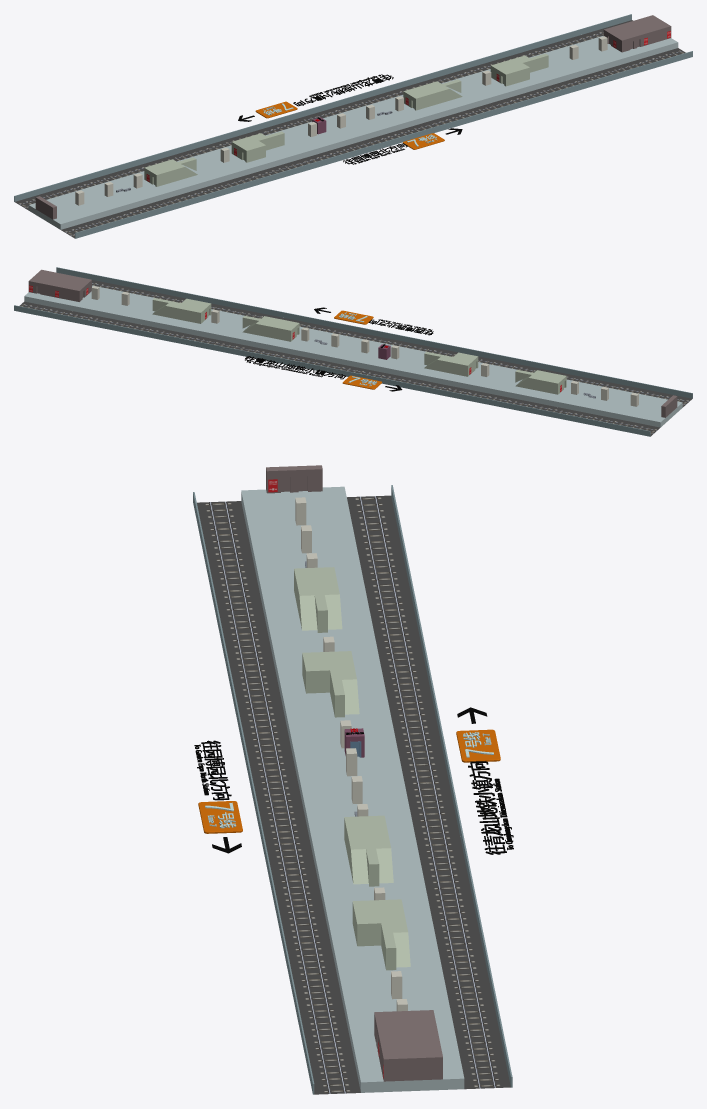
The model's file is psop-whgj-wjdd-b3.d5f8145.glb.
3 views of the same model, one above another, from view 1: azimuth 30°, elevation 25°; view 2: azimuth 150°, elevation 25°; view 3: azimuth 270°, elevation 25° (orthographic). The views are drawn at different scales.
Parts seen in each view (by area): view 1: Box001, 轨道03, 7号线园博园方向, Object061, B3_房间, 墩柱083, Text018, Text017; view 2: Box001, 7号线园博园方向, 轨道03, Object061, B3_房间, 墩柱083, Text018, Text017, Plane101, Plane073; view 3: 轨道03, Box001, Object061, B3_房间, 7号线园博园方向, 墩柱083, Text018, Text017, Plane073, Plane101.
Boxes of the visible parts, x1,y1,x2,y2 form: Box001: (28, 35, 678, 229); 轨道03: (15, 20, 685, 238); 7号线园博园方向: (14, 14, 692, 238); Object061: (144, 53, 548, 186); B3_房间: (35, 15, 671, 219); 墩柱083: (75, 36, 607, 205); Text018: (293, 74, 393, 106); Text017: (343, 143, 407, 164); Box001: (24, 285, 682, 427); 7号线园博园方向: (14, 267, 692, 436); 轨道03: (19, 280, 692, 436); Object061: (152, 298, 566, 394); B3_房间: (28, 269, 677, 417); 墩柱083: (91, 286, 638, 406); Text018: (245, 356, 346, 379); Text017: (368, 319, 433, 335); Plane101: (342, 375, 382, 389); Plane073: (334, 310, 373, 324); 轨道03: (197, 495, 510, 1094); Box001: (241, 486, 464, 1092); Object061: (294, 567, 410, 970); B3_房间: (266, 465, 442, 1081); 7号线园博园方向: (193, 485, 512, 1094); 墩柱083: (295, 497, 407, 1011); Text018: (468, 761, 513, 854); Text017: (194, 740, 231, 800); Plane073: (198, 801, 242, 833); Plane101: (456, 729, 500, 762).
Bounding box in the file's own units: 182 × 4.65 × 41.21.
Materials: 17 (2 with a texture image).
